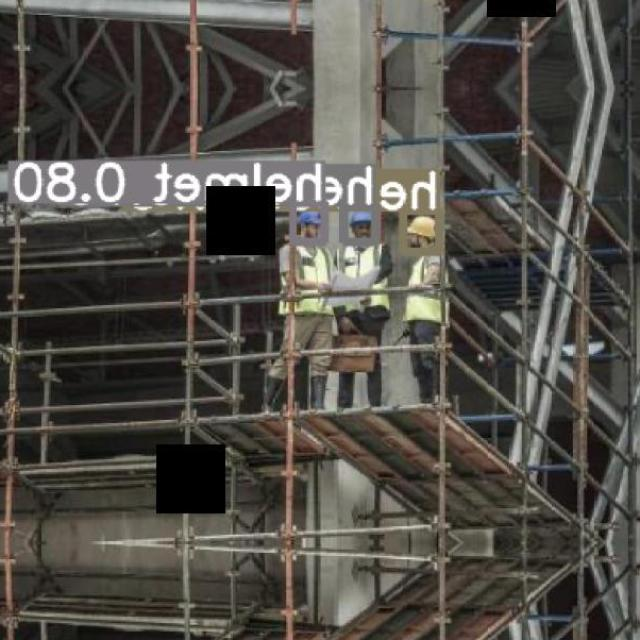helmet: (407, 216, 437, 238), (299, 210, 321, 226), (350, 212, 372, 226)
